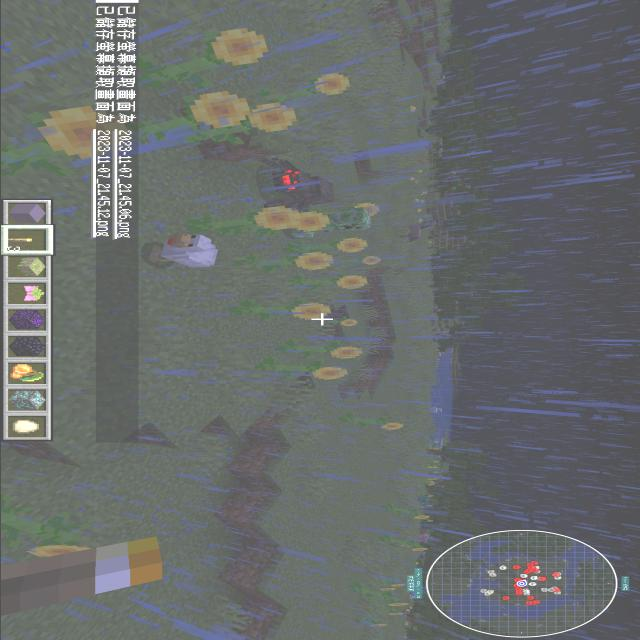Creeper: (286, 207, 372, 240)
Spider: (251, 154, 337, 218)
Zombie: (406, 494, 438, 509), (412, 121, 428, 135)
chicken: (142, 229, 222, 271), (422, 407, 444, 414)
pig: (412, 532, 430, 544)
